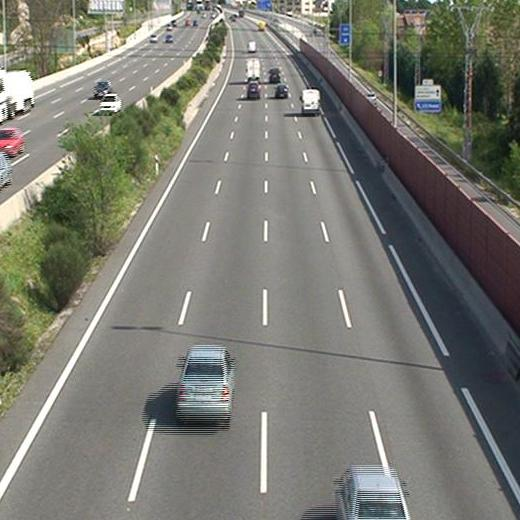car: (175, 345, 234, 424), (246, 82, 261, 98), (274, 85, 287, 99)
small-truck: (246, 56, 261, 81)
van: (300, 90, 320, 115), (268, 67, 281, 83)
